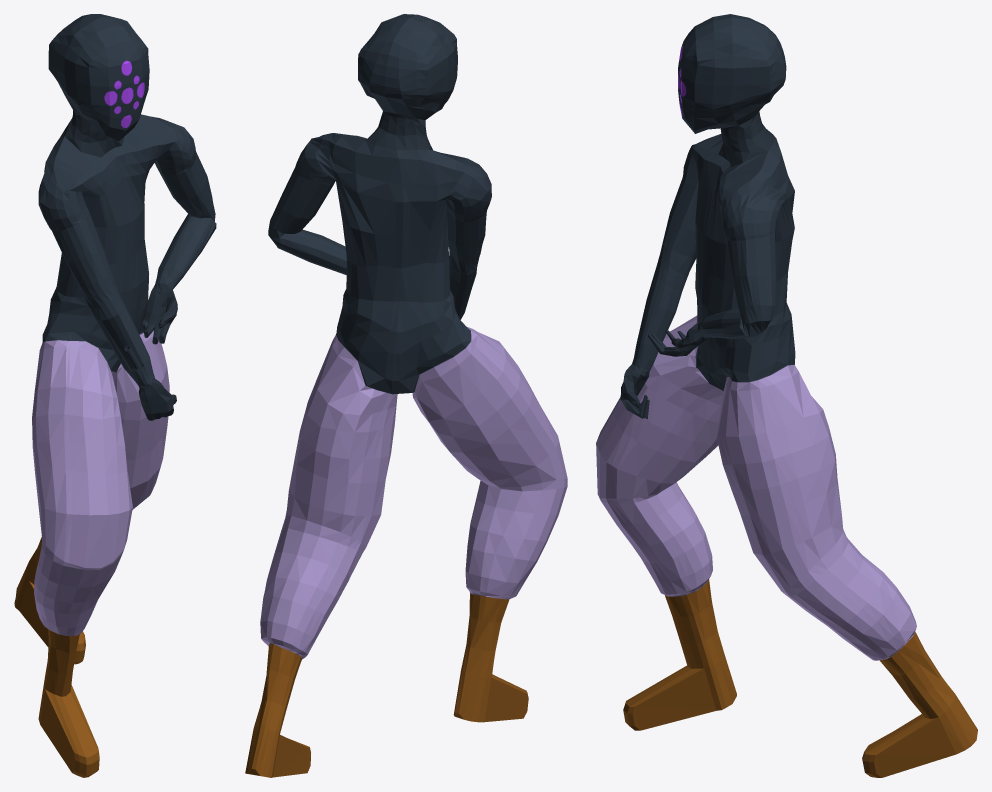
Rendered from Oracle_Run_000010.obj.
3 views of the same model, side by side, from view 1: azimuth 30°, elevation 25°; view 2: azimuth 150°, elevation 25°; view 3: azimuth 270°, elevation 25° (orthographic). The views are drawn at different scales.
Parts seen in each view (by area): view 1: Cube; view 2: Cube; view 3: Cube.
Boxes of the visible parts, <box> form: Cube: <box>14,14,216,777</box>; Cube: <box>245,14,567,777</box>; Cube: <box>596,14,977,777</box>.
Bounding box in the file's own units: 1.29 × 3.82 × 1.79.
